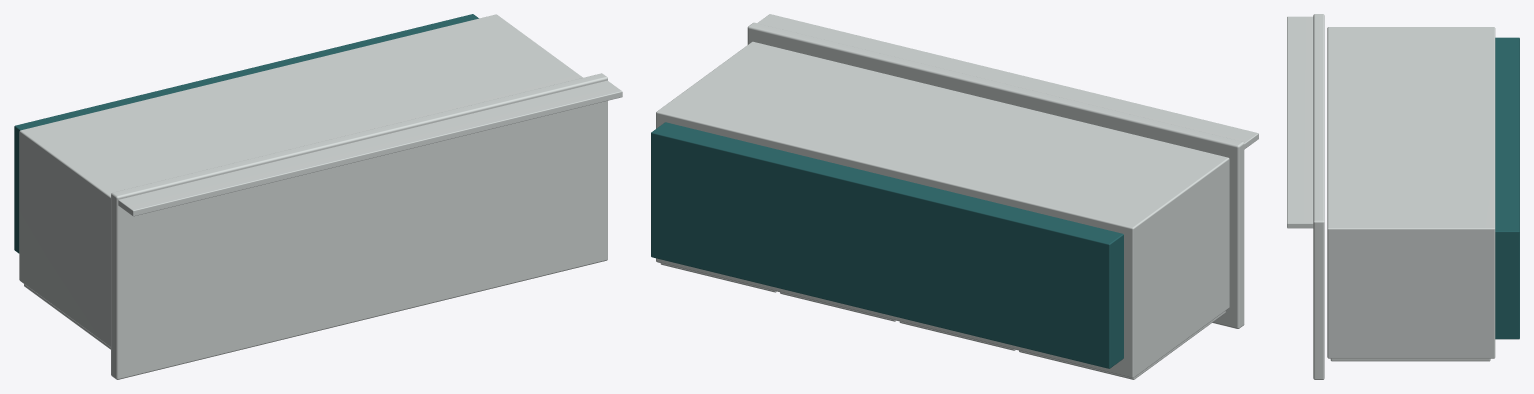
File: bench_1.glb
3 views of the same model, side by side, from view 1: azimuth 30°, elevation 25°; view 2: azimuth 150°, elevation 25°; view 3: azimuth 270°, elevation 25° (orthographic). The views are drawn at different scales.
Visible parts, largest first — view 1: Worktop 1, Cabinet case 1, Splashback 1, Recessed cabinet plinth 1; view 2: Cabinet case 1, Recessed cabinet plinth 1, Worktop 1, Splashback 1, Cabinet door 1 0; view 3: Cabinet case 1, Recessed cabinet plinth 1, Splashback 1, Worktop 1, Cabinet door 1 3.
Boxes of the visible parts, x1,y1,x2,y2 form: Worktop 1: (111,73,607,379); Cabinet case 1: (19,14,582,347); Splashback 1: (118,80,622,216); Recessed cabinet plinth 1: (14,14,478,253); Cabinet case 1: (656,41,1229,378); Recessed cabinet plinth 1: (651,122,1123,368); Worktop 1: (747,22,1244,328); Splashback 1: (757,14,1258,149); Cabinet door 1 0: (1019,311,1225,379); Cabinet case 1: (1327,27,1495,358); Recessed cabinet plinth 1: (1495,37,1519,339); Splashback 1: (1287,16,1313,228); Worktop 1: (1313,14,1324,379); Cabinet door 1 3: (1330,358,1490,361).
Size of the model in its own units: 2.1 by 0.752 by 0.993.
